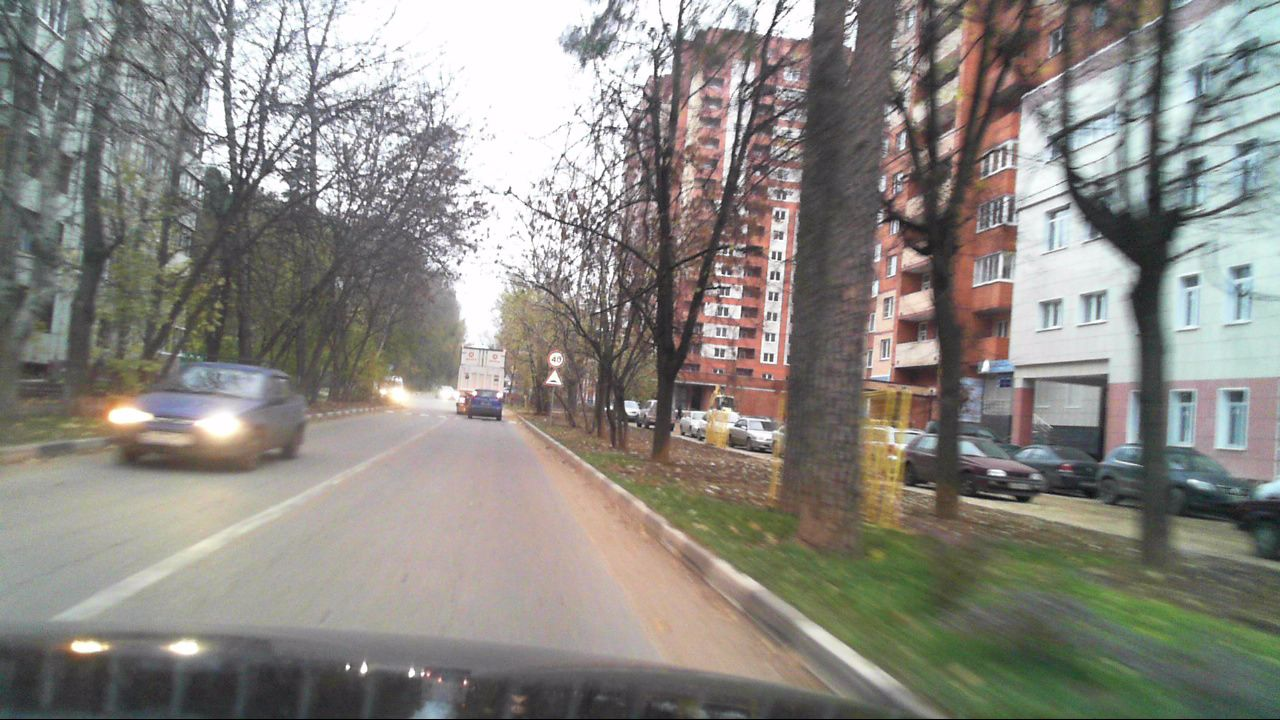speed_warning_40: (548, 350, 564, 366)
